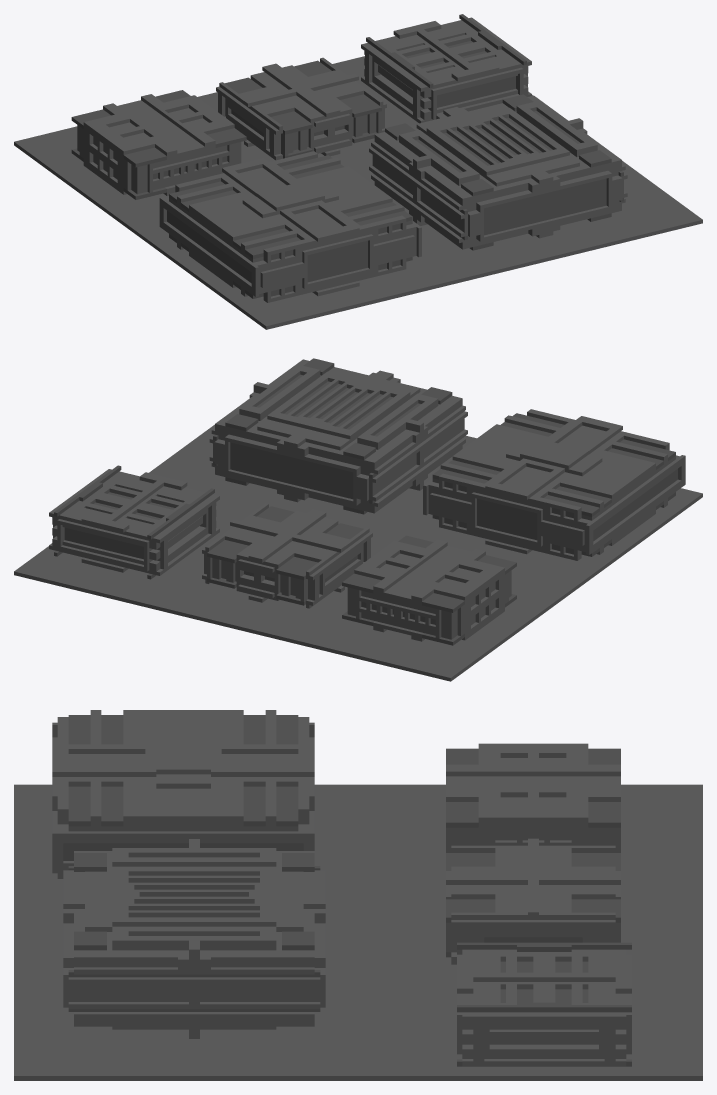
The model's file is scene_ships.obj.
3 renders of one model, top to bottom at view 1: azimuth 30°, elevation 25°; view 2: azimuth 150°, elevation 25°; view 3: azimuth 270°, elevation 25°, orthographic. The views are drawn at different scales.
Bounding box in the file's own units: 126 × 19 × 126.
